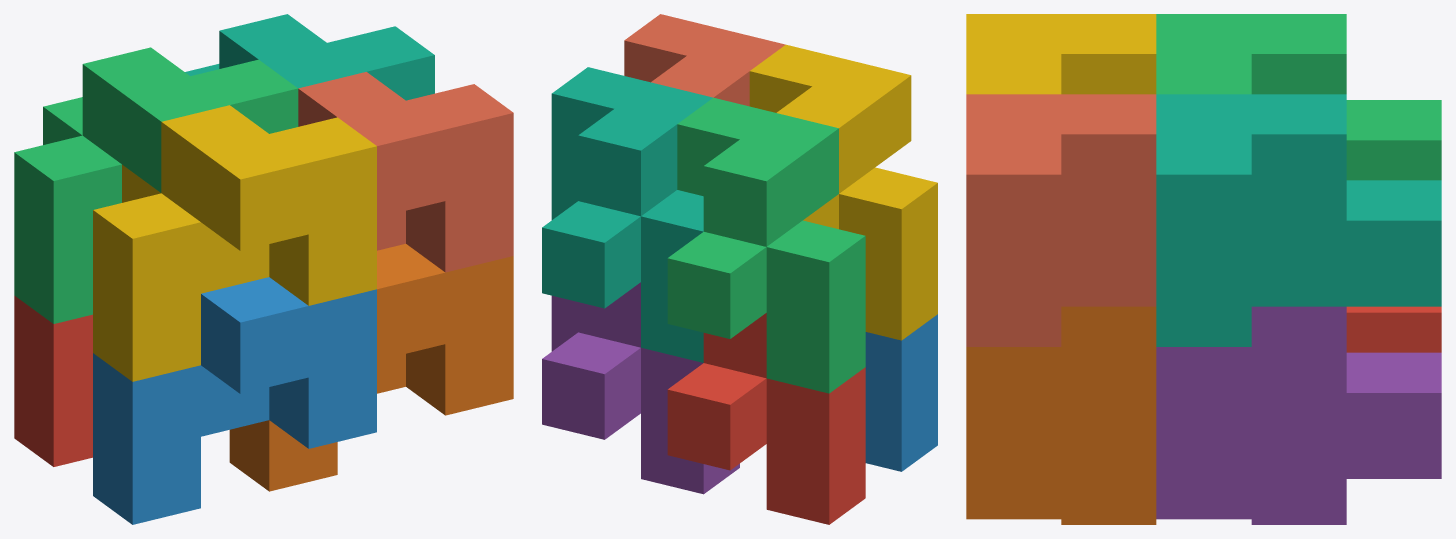
The model's file is tiling.obj.
3 views of the same model, side by side, from view 1: azimuth 30°, elevation 25°; view 2: azimuth 150°, elevation 25°; view 3: azimuth 270°, elevation 25° (orthographic). The views are drawn at different scales.
Visible parts, largest first — view 1: copy_1_domain_4, copy_1_domain_2, copy_1_domain_3, copy_1_domain_8, copy_1_domain_6, copy_1_domain_1, copy_1_domain_7; view 2: copy_1_domain_3, copy_1_domain_7, copy_1_domain_4, copy_1_domain_1, copy_1_domain_5, copy_1_domain_2, copy_1_domain_8; view 3: copy_1_domain_7, copy_1_domain_5, copy_1_domain_8, copy_1_domain_6, copy_1_domain_3, copy_1_domain_4, copy_1_domain_1.
Boxes of the visible parts, left/top/right/bottom form: copy_1_domain_4: left=93, top=105, right=376, bottom=381; copy_1_domain_2: left=93, top=277, right=376, bottom=524; copy_1_domain_3: left=14, top=47, right=298, bottom=323; copy_1_domain_8: left=298, top=72, right=513, bottom=272; copy_1_domain_6: left=229, top=243, right=513, bottom=491; copy_1_domain_1: left=14, top=295, right=92, bottom=466; copy_1_domain_7: left=185, top=14, right=434, bottom=100; copy_1_domain_3: left=667, top=97, right=865, bottom=393; copy_1_domain_7: left=542, top=67, right=712, bottom=362; copy_1_domain_4: left=749, top=44, right=937, bottom=340; copy_1_domain_1: left=667, top=313, right=865, bottom=524; copy_1_domain_5: left=542, top=282, right=739, bottom=494; copy_1_domain_2: left=865, top=314, right=937, bottom=471; copy_1_domain_8: left=624, top=14, right=785, bottom=106; copy_1_domain_7: left=1156, top=94, right=1441, bottom=346; copy_1_domain_5: left=1156, top=306, right=1441, bottom=524; copy_1_domain_8: left=966, top=94, right=1156, bottom=346; copy_1_domain_6: left=966, top=306, right=1156, bottom=524; copy_1_domain_3: left=1156, top=14, right=1441, bottom=180; copy_1_domain_4: left=966, top=14, right=1156, bottom=94; copy_1_domain_1: left=1346, top=306, right=1441, bottom=352.
Bounding box in the file's own units: 5 × 5 × 5.
